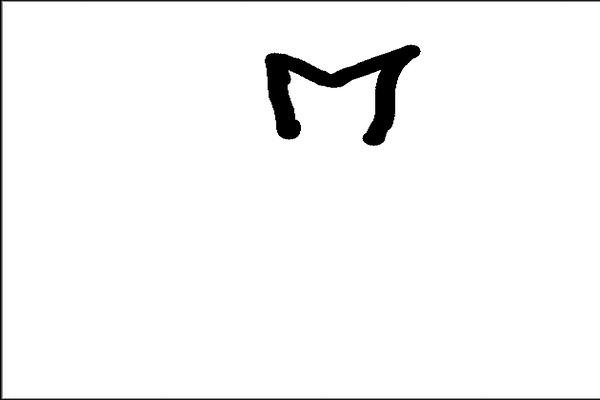M: (253, 41, 422, 149)
